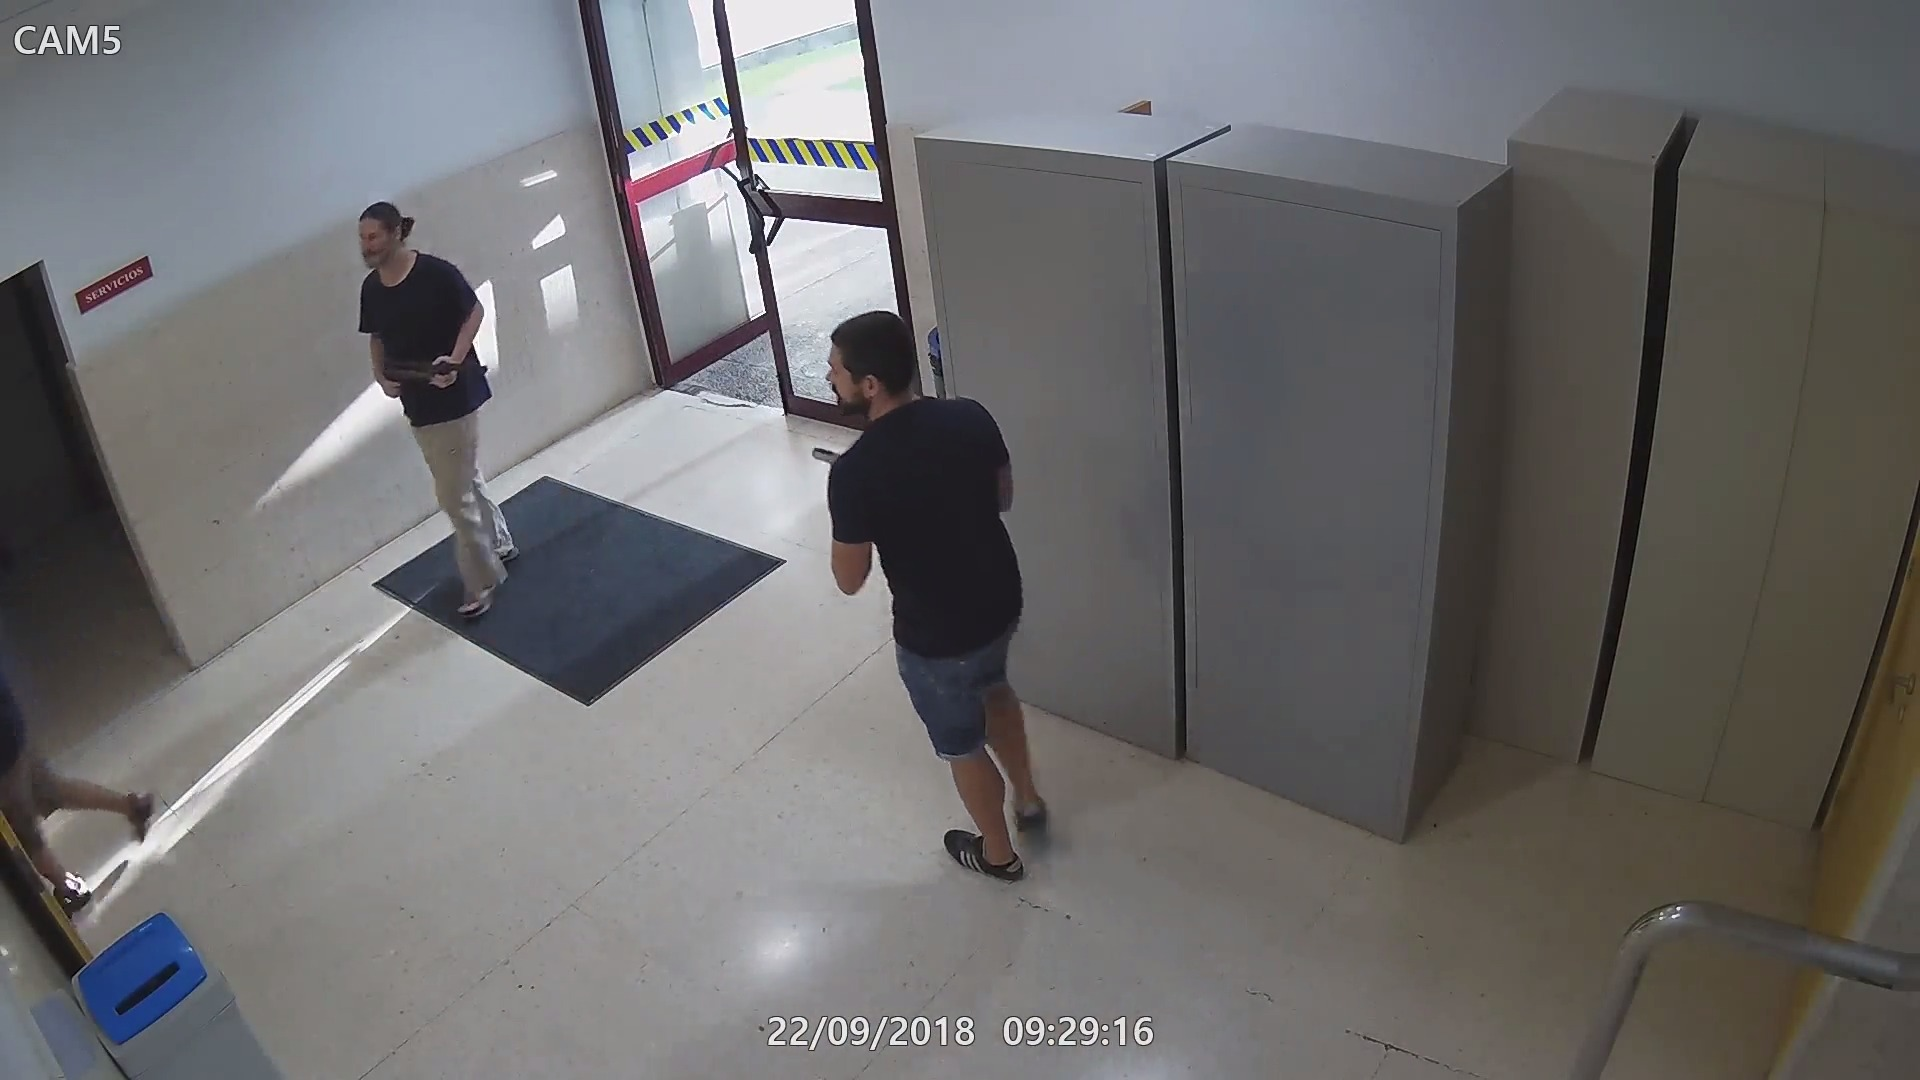Short_rifle: (371, 352, 495, 404)
